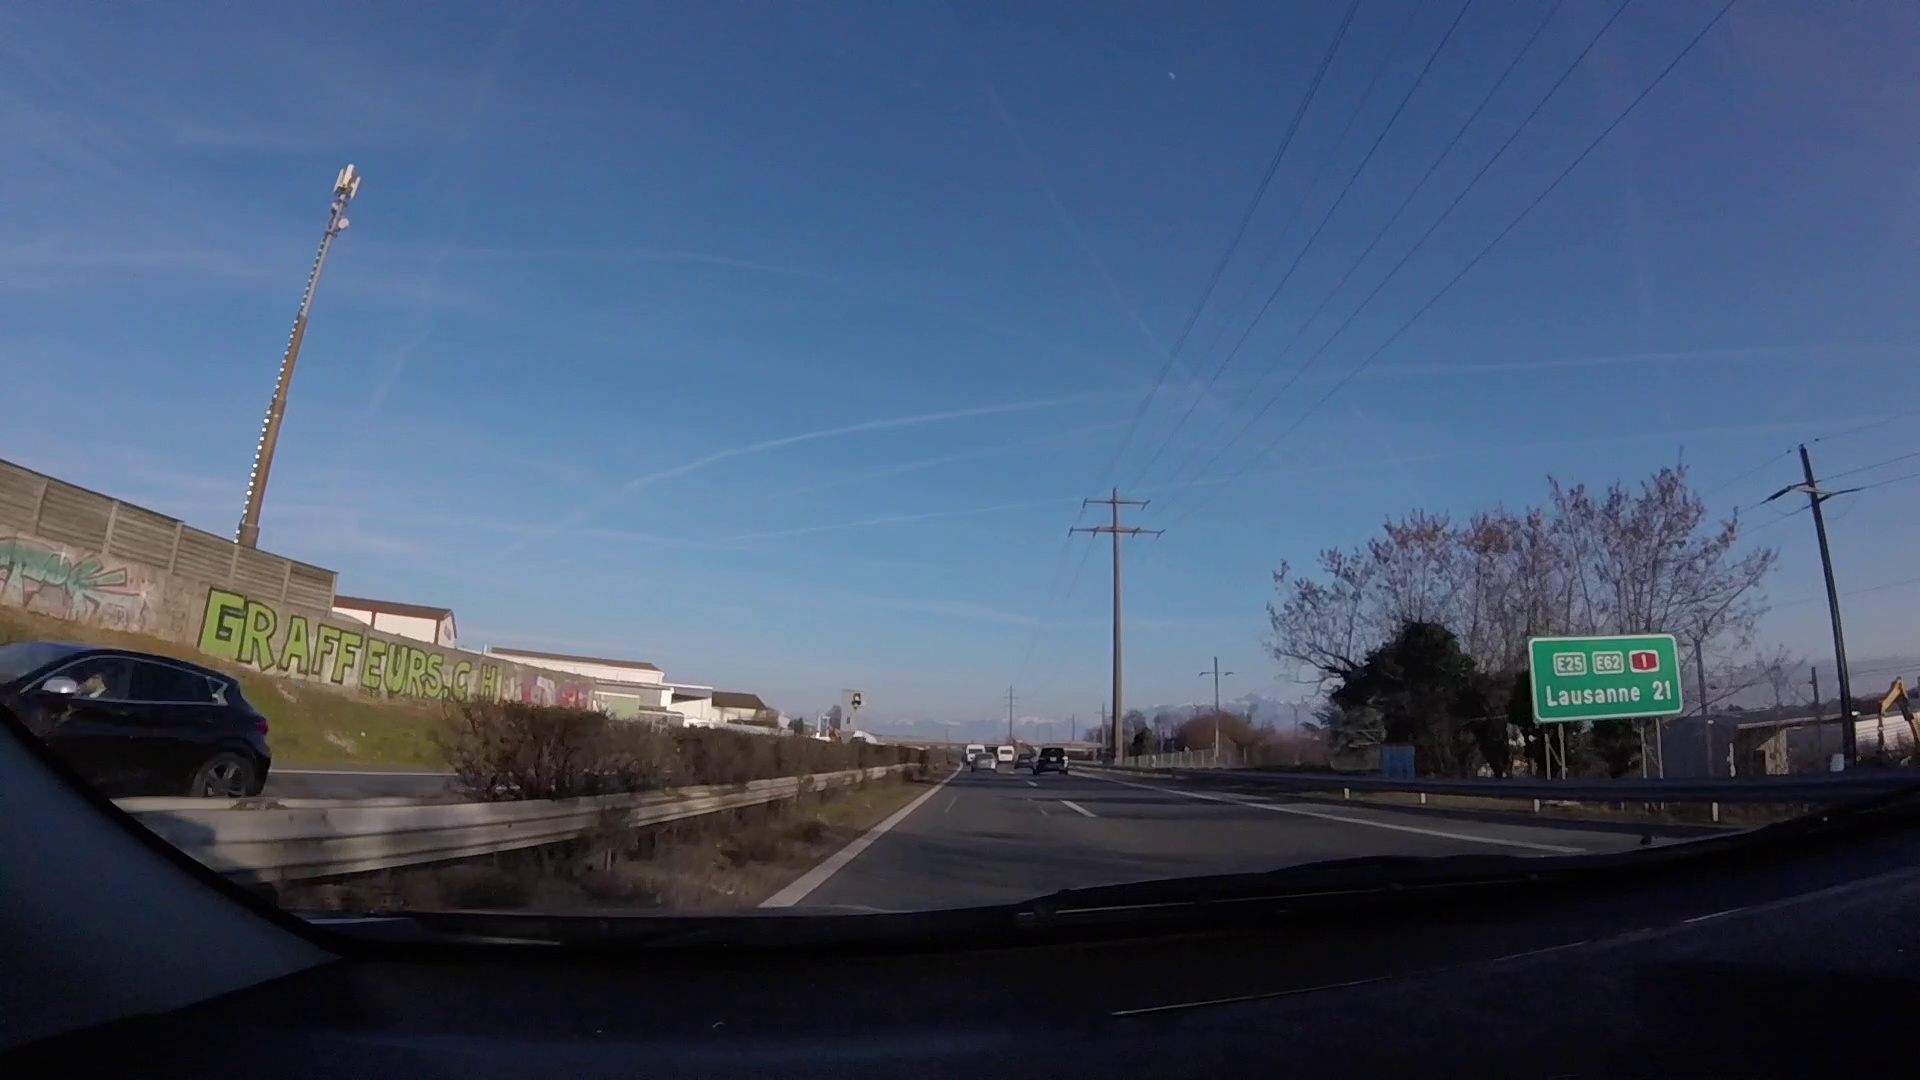radar: (837, 686, 866, 748)
